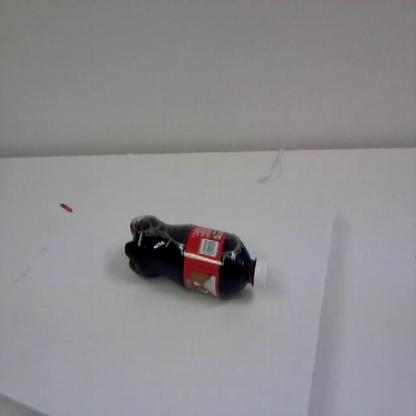bottle: (124, 212, 271, 304)
